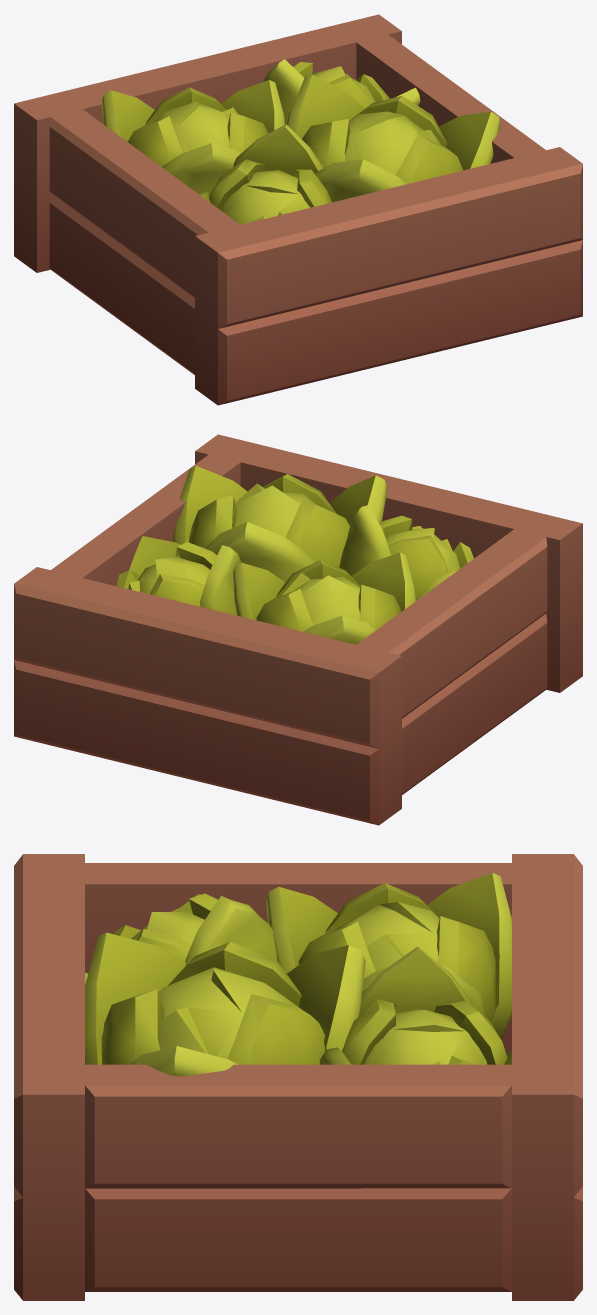
Rendered from re-crate_lettuce.glb.
3 views of the same model, one above another, from view 1: azimuth 30°, elevation 25°; view 2: azimuth 150°, elevation 25°; view 3: azimuth 270°, elevation 25° (orthographic). The views are drawn at different scales.
Parts seen in each view (by area): view 1: crate_lettuce; view 2: crate_lettuce; view 3: crate_lettuce.
Part boxes in pixels (left/top/right/bottom): crate_lettuce: left=14, top=14, right=582, bottom=405; crate_lettuce: left=14, top=434, right=582, bottom=825; crate_lettuce: left=14, top=854, right=582, bottom=1300.
Bounding box in the file's own units: 2 × 0.9981 × 2.
1 material, 1 textured.
